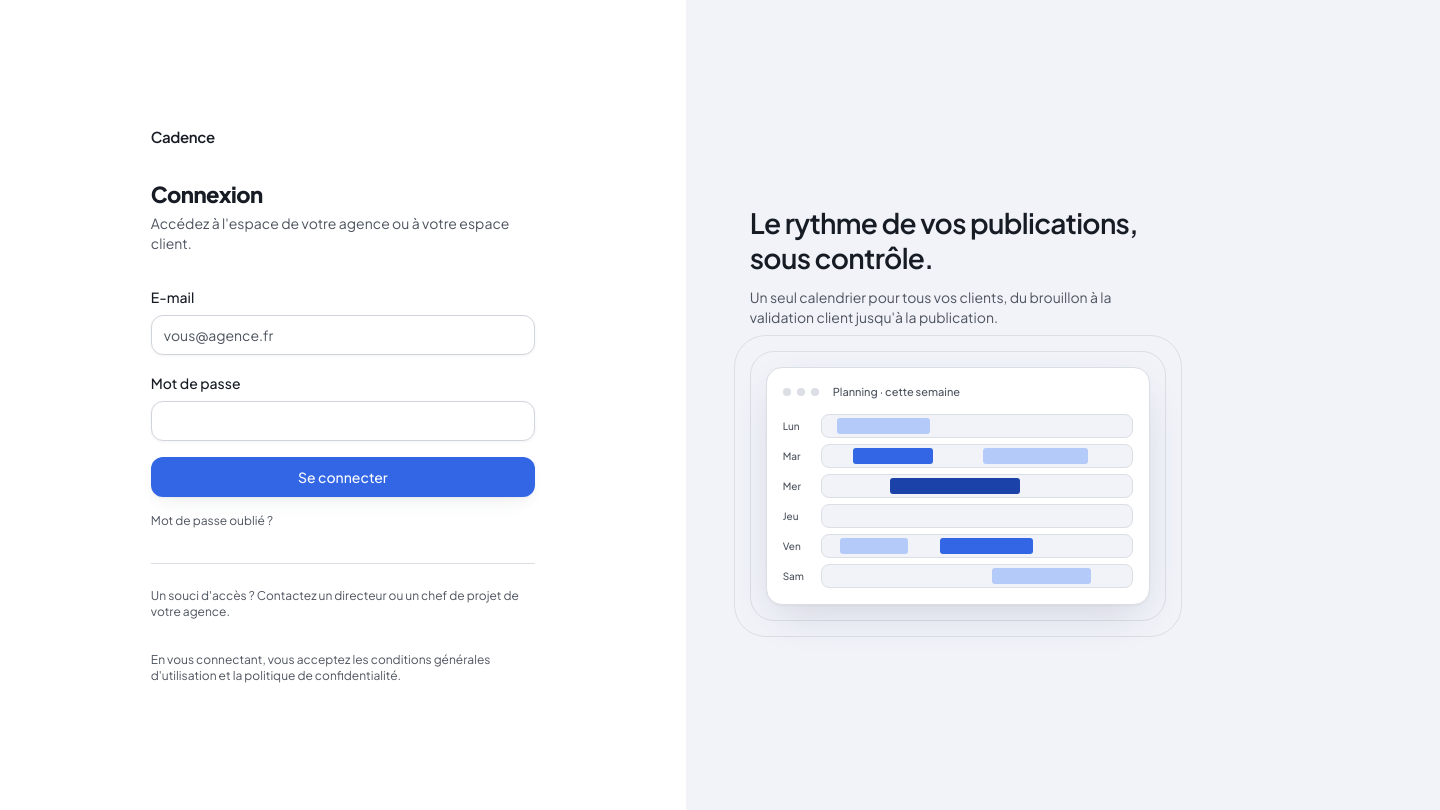
it: LoginPage › valide les champs requis
The width and height of the screenshot is (1440, 810).
Click the button "Se connecter": (343, 477) [151,457,535,497]
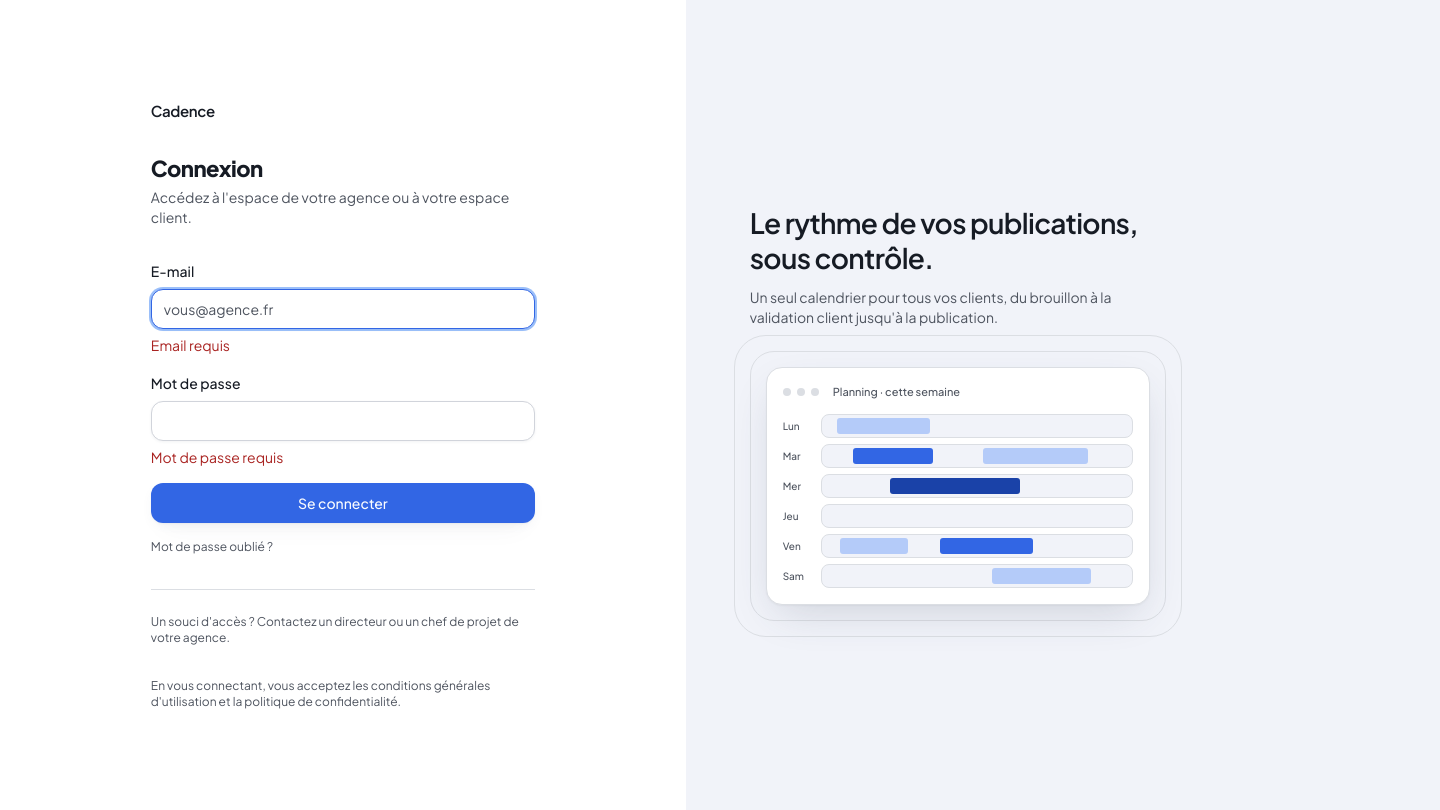
Check: the text "Email requis" is shown, box [151,336,230,354]
Check: the text "Mot de passe requis" is shown, box [151,448,283,466]
